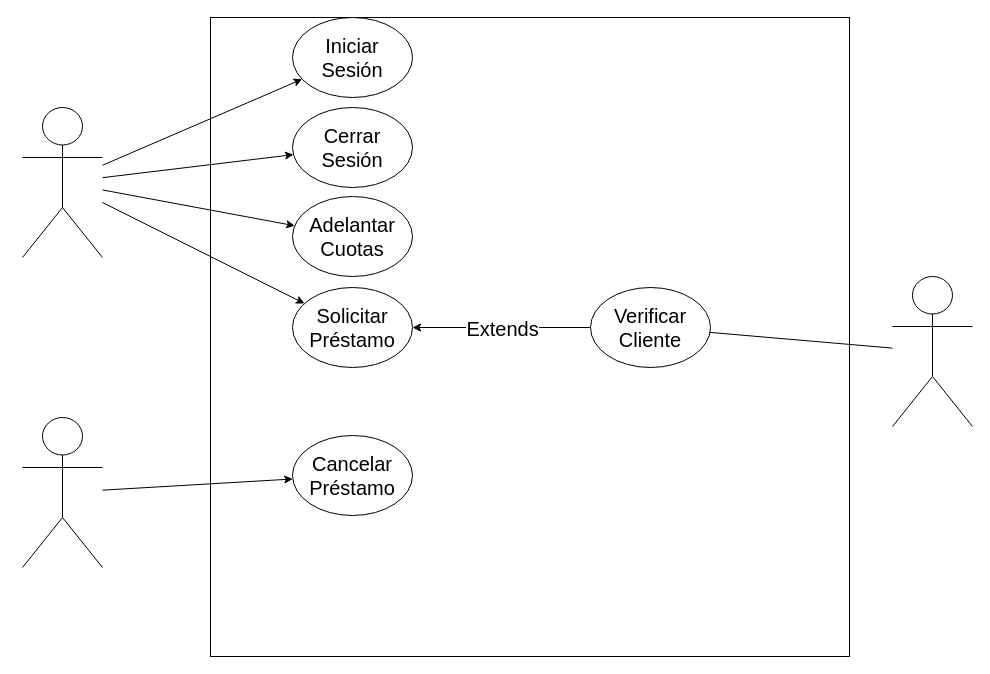
The diagram is 990 pixels wide and 674 high, and some of its shapes have lost their labels. The box of each missing label's shape, as (x1, y1, x2, y2) in pixels:
Cliente: (22, 106, 102, 258)
Empleado: (22, 416, 102, 568)
Veraz: (892, 276, 972, 426)
